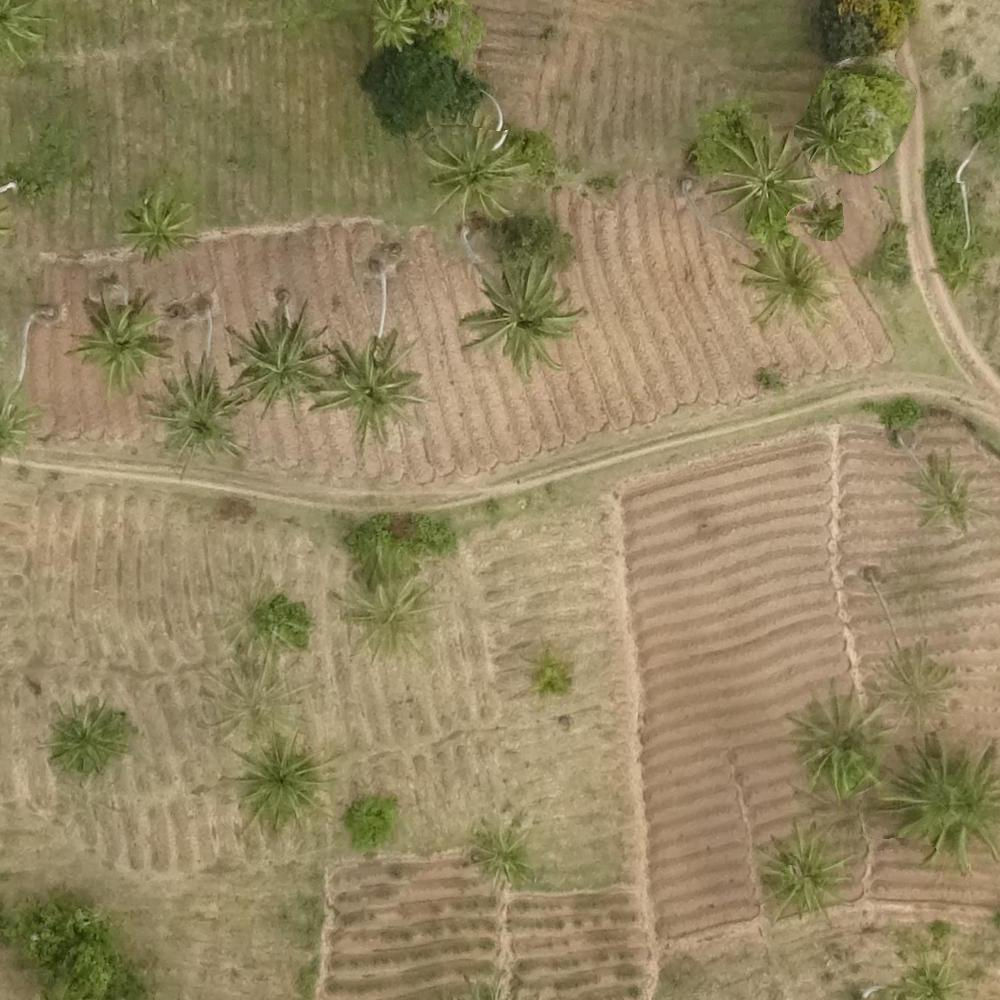Palm: (457, 257, 576, 372), (886, 744, 998, 864), (711, 123, 811, 222), (230, 309, 328, 407), (150, 364, 245, 464), (792, 691, 887, 791), (416, 123, 522, 211), (318, 333, 413, 429), (72, 295, 167, 388), (233, 742, 318, 827), (763, 828, 844, 916), (745, 236, 829, 319), (798, 91, 875, 167), (48, 700, 125, 768), (118, 195, 194, 262), (468, 828, 528, 891), (365, 1, 425, 52)
